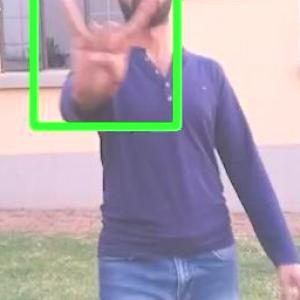takeoff-hand: (48, 0, 163, 117)
